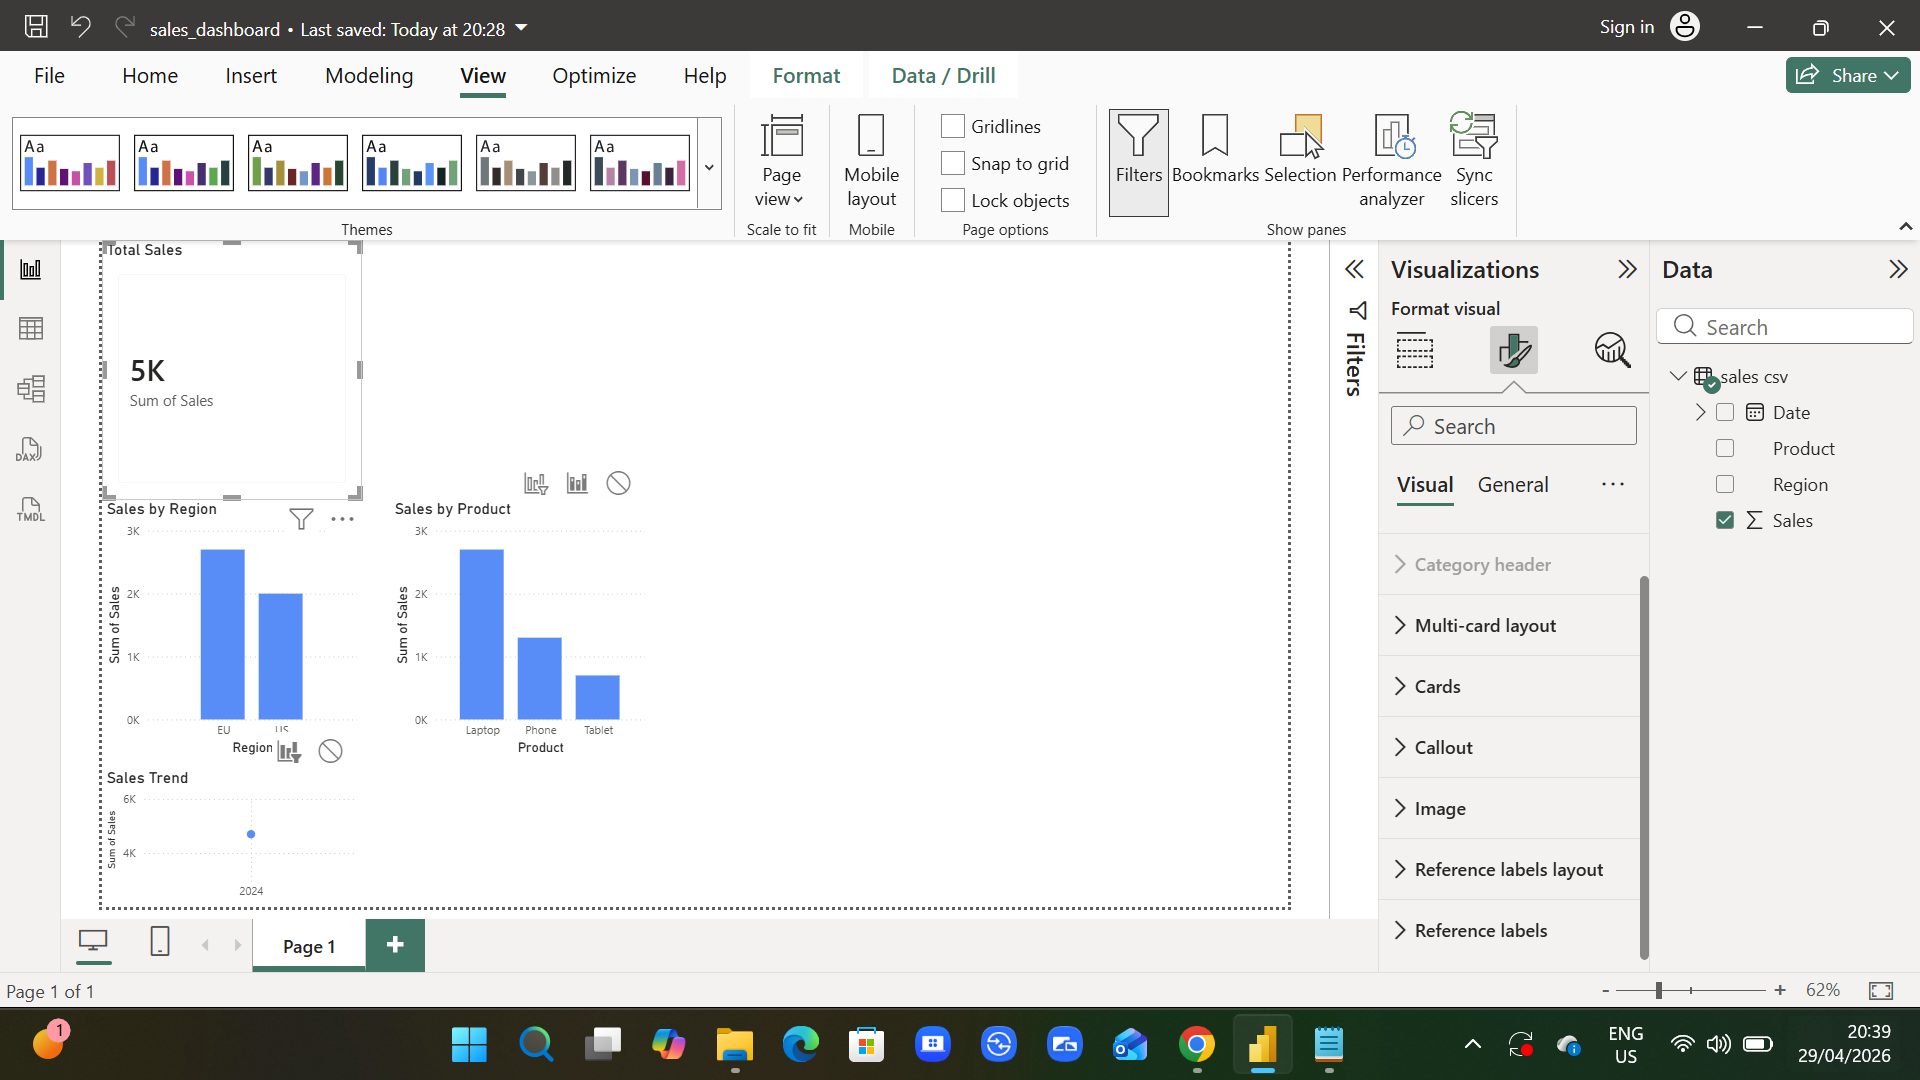

This screenshot's page, from the dashboard's own definition file:
{"tool":"powerbi","page":{"name":"Page 1","canvas":[1280,720],"ordinal":0},"visuals":[{"type":"clusteredColumnChart","fields":{"Category":["sales csv.Region"],"Y":["Sum(sales csv.Sales)"]},"box":[10,0,280,280],"z":0},{"type":"clusteredColumnChart","fields":{"Category":["sales csv.Product"],"Y":["Sum(sales csv.Sales)"]},"box":[10,290,280,280],"z":1},{"type":"lineChart","fields":{"Category":["sales csv.Date.Variation.Date Hierarchy.Year","sales csv.Date.Variation.Date Hierarchy.Quarter","sales csv.Date.Variation.Date Hierarchy.Month","sales csv.Date.Variation.Date Hierarchy.Day"],"Y":["Sum(sales csv.Sales)"]},"box":[10,570,280,150],"z":2},{"type":"cardVisual","fields":{"Data":["Sum(sales csv.Sales)"]},"box":[300,0,280,280],"z":3}]}

Visuals, with their boxes on the page's 1280x720 design canvas (x1, y1, x2, y2). These are canvas units, not pixel positions in the 1920x1080 screenshot, which may show the page scaled, cropped or inside an application window:
clusteredColumnChart - sales csv.Region x Sum(sales csv.Sales): 10/0/290/280
clusteredColumnChart - sales csv.Product x Sum(sales csv.Sales): 10/290/290/570
lineChart - sales csv.Date.Variation.Date Hierarchy.Year x sales csv.Date.Variation.Date Hierarchy.Quarter: 10/570/290/720
cardVisual - Sum(sales csv.Sales): 300/0/580/280
